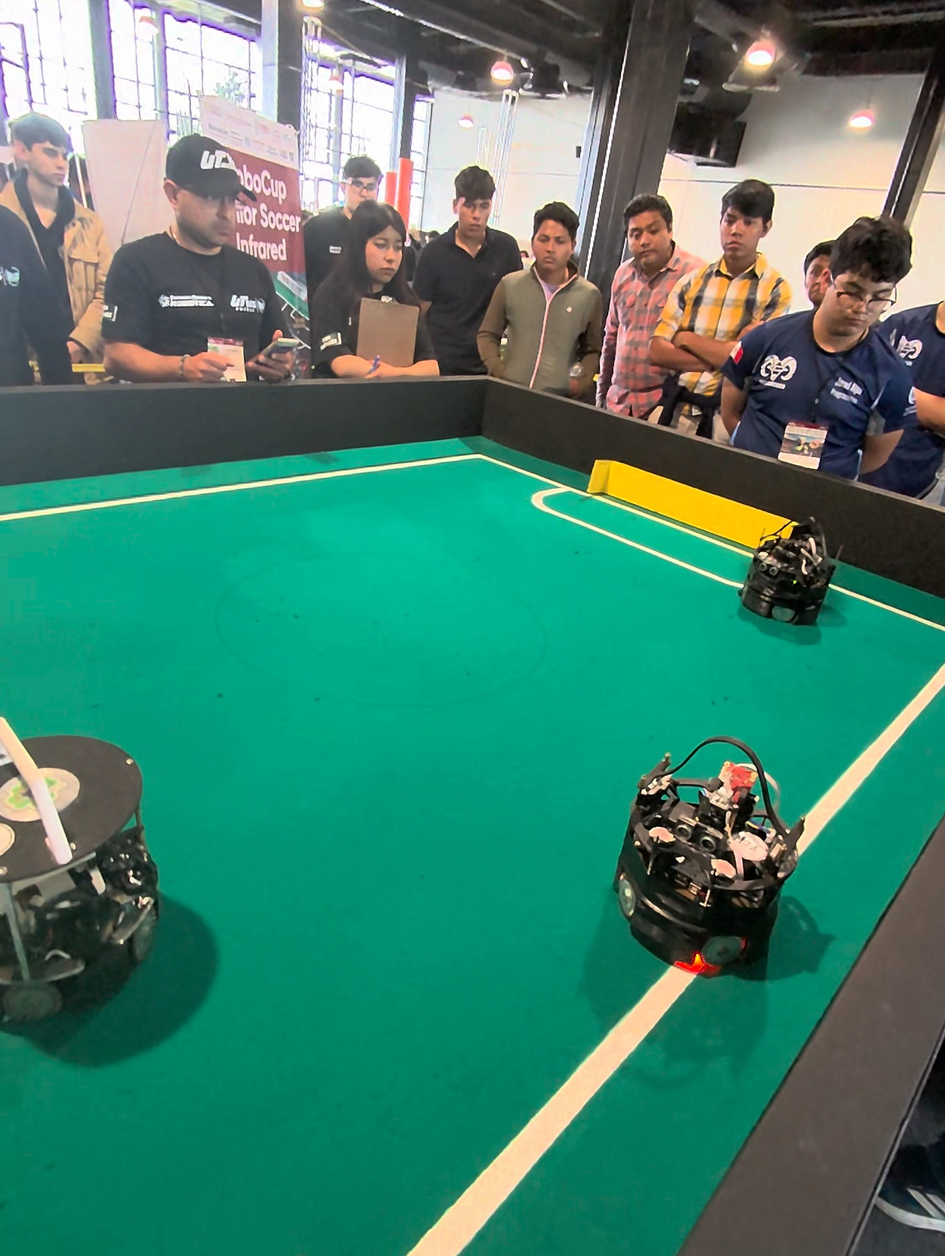Robot: (0, 685, 193, 1052), (616, 721, 809, 990), (741, 514, 840, 637)
